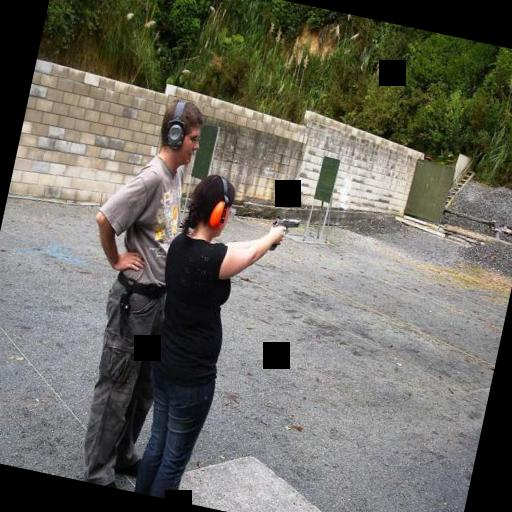Handgun: (260, 208, 300, 260)
